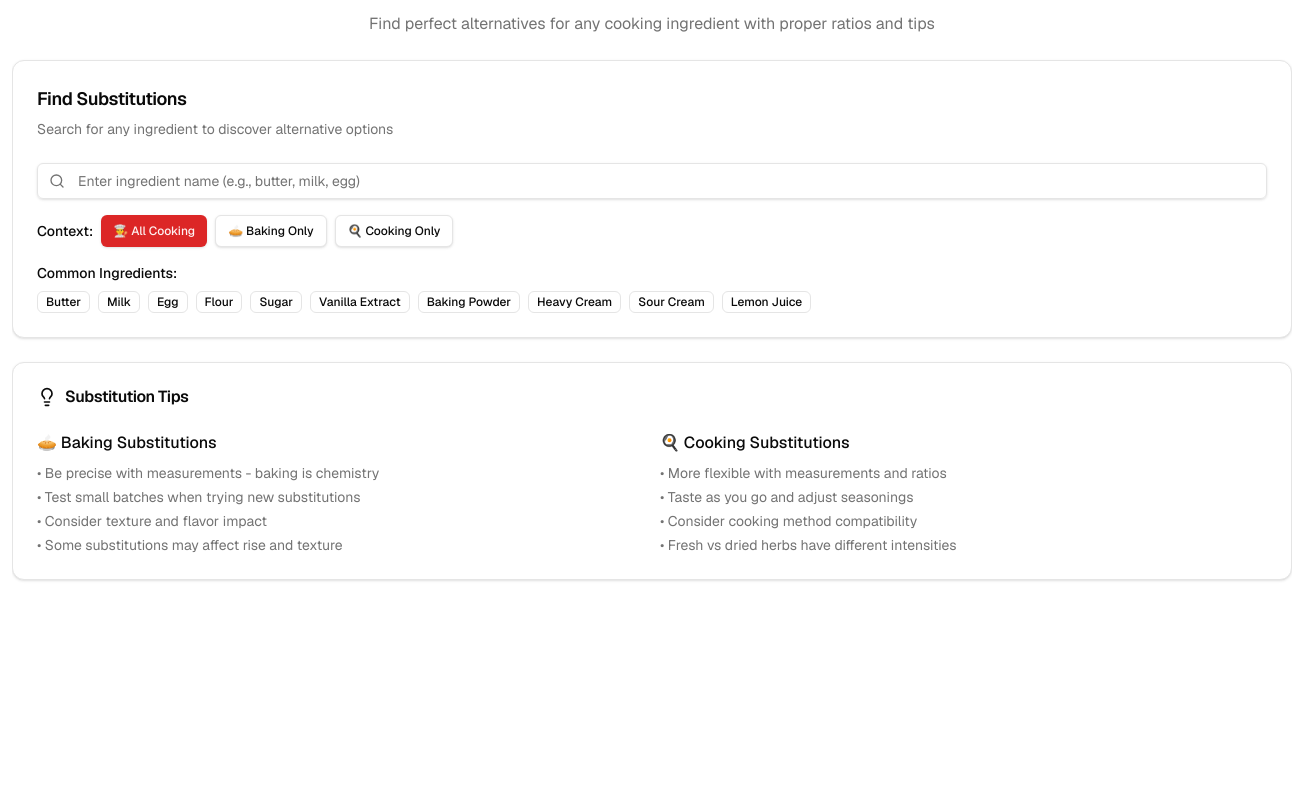
Test case: SubstitutionWizard › Context Filtering › should show all substitutions when "All Cooking" is selected
In the field with placeholder "Enter ingredient name (e.g., butter, milk, egg)": (652, 181) [37,163,1267,199], type "butter"
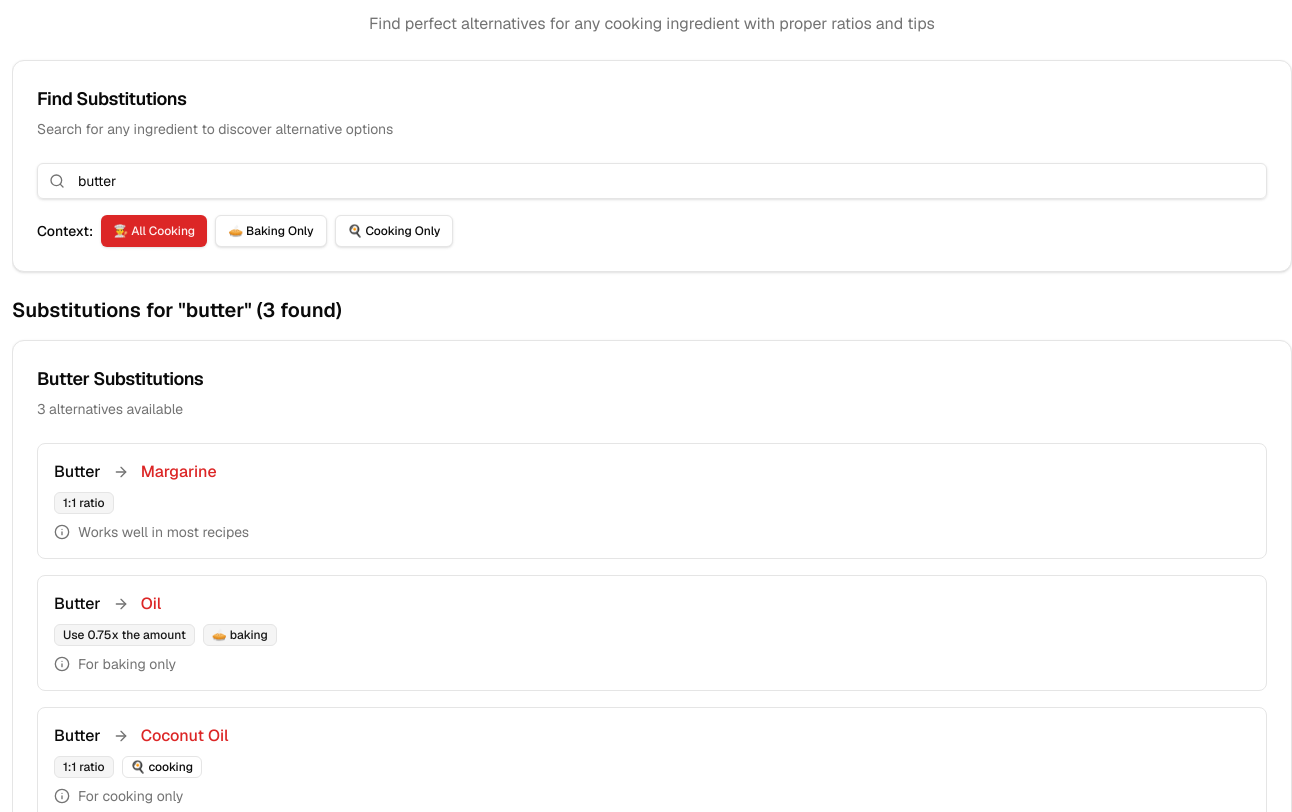
expect the text "margarine" is shown: met, box [141,460,217,484]
expect the text "oil" is shown: met, box [141,592,161,616]
expect the text "coconut oil" is shown: met, box [141,724,228,748]
